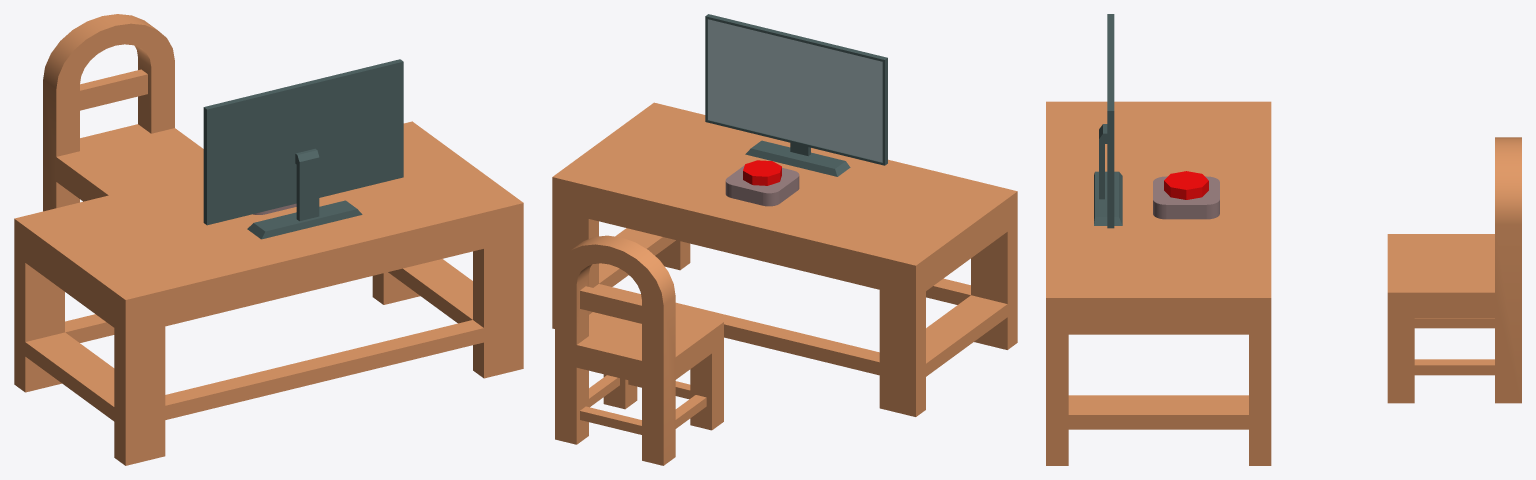
Rendered from environment.glb.
3 renders of one model, left to right at view 1: azimuth 30°, elevation 25°; view 2: azimuth 150°, elevation 25°; view 3: azimuth 270°, elevation 25°, orthographic. The views are drawn at different scales.
Visible parts, largest first — view 1: tableCoffeeSquare, televisionModern, chairRounded; view 2: tableCoffeeSquare, chairRounded, televisionModern, cylinderSquare, cylinderVertex; view 3: tableCoffeeSquare, chairRounded, televisionModern, cylinderSquare, cylinderVertex.
Boxes of the visible parts, x1,y1,x2,y2 form: tableCoffeeSquare: [14, 121, 523, 465]; televisionModern: [203, 59, 403, 239]; chairRounded: [43, 14, 203, 211]; tableCoffeeSquare: [552, 102, 1017, 416]; chairRounded: [555, 235, 723, 465]; televisionModern: [705, 14, 887, 176]; cylinderSquare: [725, 165, 799, 206]; cylinderVertex: [743, 160, 781, 185]; tableCoffeeSquare: [1046, 101, 1271, 465]; chairRounded: [1387, 137, 1521, 403]; televisionModern: [1094, 14, 1122, 228]; cylinderSquare: [1153, 176, 1219, 219]; cylinderVertex: [1164, 171, 1208, 199].
Size of the model in its own units: 2.08 by 1.53 by 2.13.
